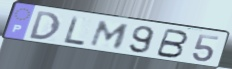5: (191, 33, 222, 63)
9: (128, 25, 156, 55)
B: (153, 27, 190, 60)
D: (29, 10, 62, 42)
L: (63, 15, 87, 47)
M: (88, 19, 132, 50)
